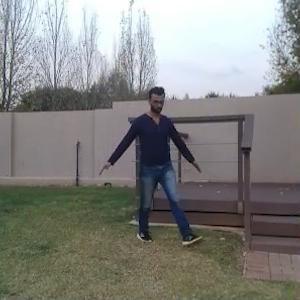land: (101, 85, 201, 257)
